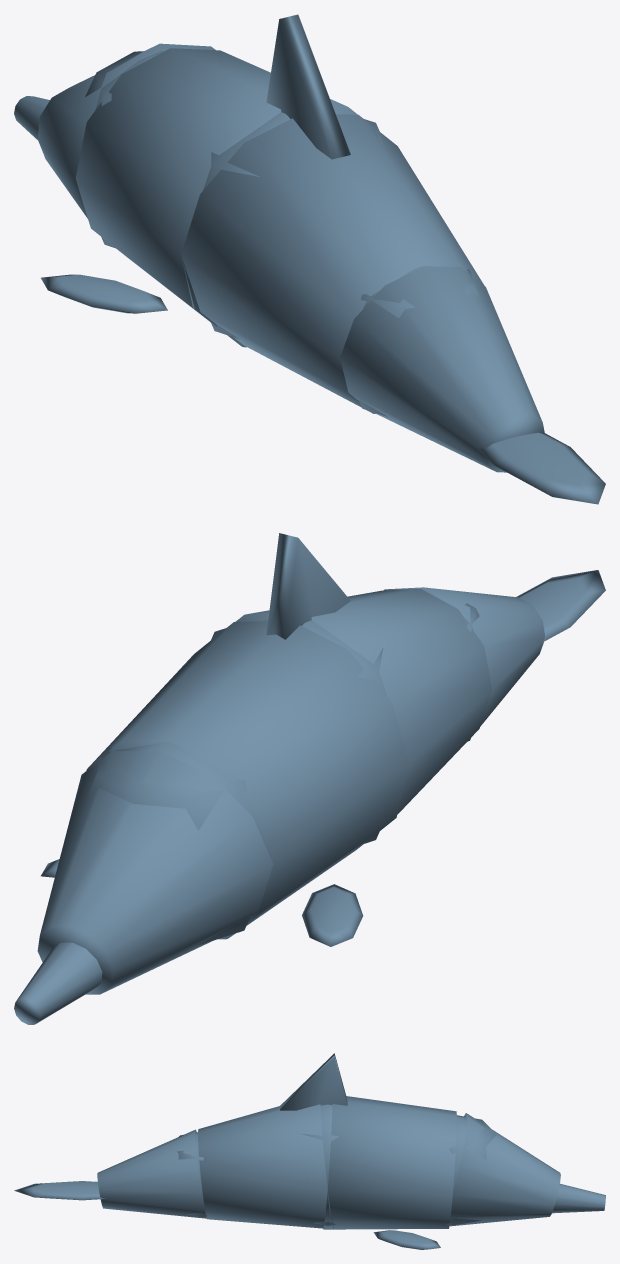
Rendered from dolphin.glb.
3 views of the same model, one above another, from view 1: azimuth 30°, elevation 25°; view 2: azimuth 150°, elevation 25°; view 3: azimuth 270°, elevation 25° (orthographic). The views are drawn at different scales.
Size of the model in its own units: 0.8022 by 0.816 by 2.6.
